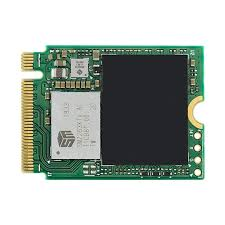ssd2230: (19, 42, 207, 184)
